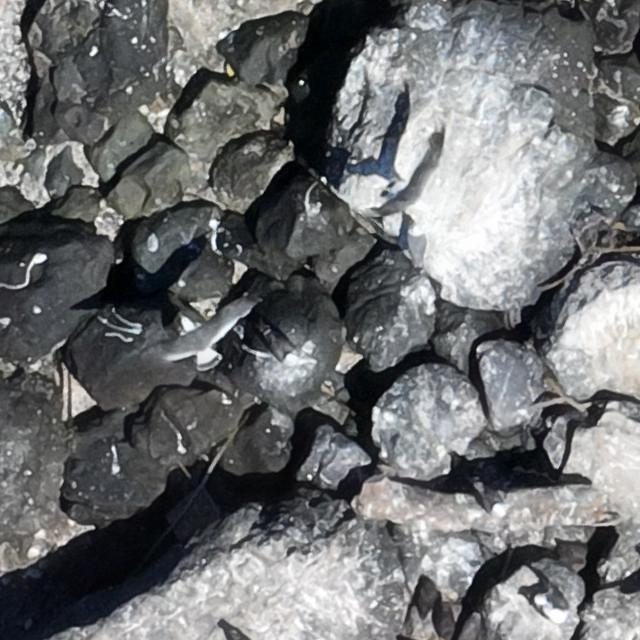F: (149, 300, 247, 363), (373, 143, 442, 220)
umineko: (535, 579, 568, 623), (405, 224, 426, 268), (268, 334, 296, 361)
